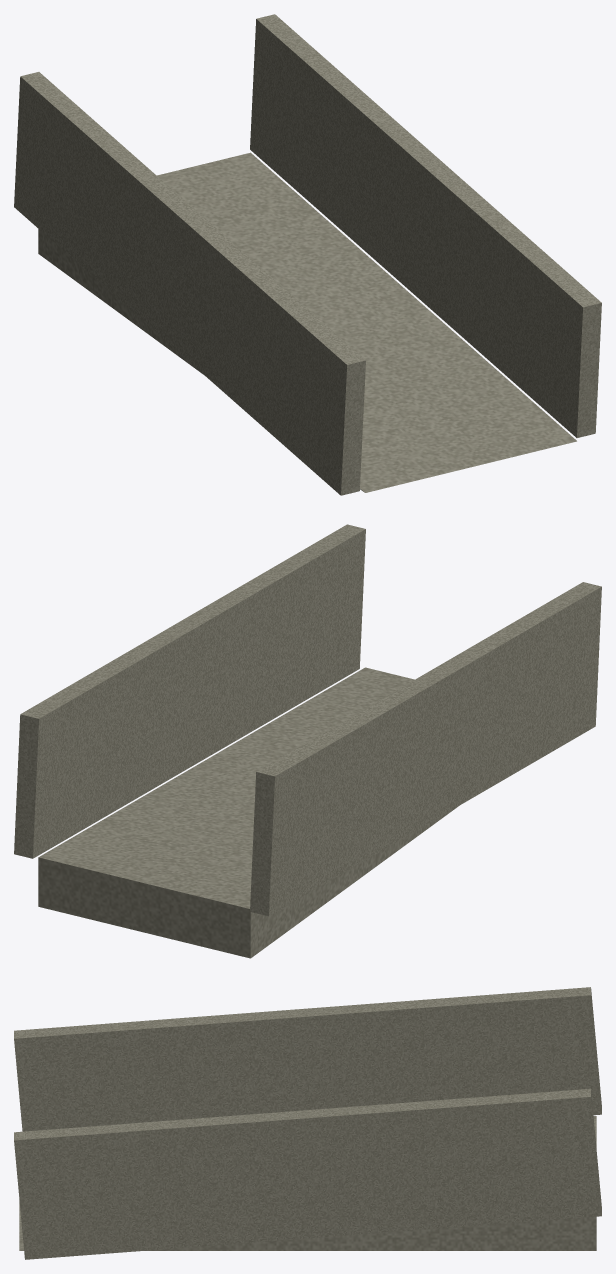
The picture shows the model from 3 angles, top to bottom: view 1: azimuth 30°, elevation 25°; view 2: azimuth 150°, elevation 25°; view 3: azimuth 270°, elevation 25°; orthographic projection. The views are drawn at different scales.
Visible parts, largest first — view 1: COL_guard, COL_guard.001, COL_smooth_navigation_proxy; view 2: COL_guard, COL_guard.001, COL_smooth_navigation_proxy; view 3: COL_guard.001, COL_guard, COL_smooth_navigation_proxy.
Boxes of the visible parts, x1,y1,x2,y2 form: COL_guard: (14,72,365,495); COL_guard.001: (250,14,601,437); COL_smooth_navigation_proxy: (38,152,576,492); COL_guard: (250,582,601,916); COL_guard.001: (14,524,365,858); COL_smooth_navigation_proxy: (38,667,458,958); COL_guard.001: (14,1088,601,1259); COL_guard: (14,987,601,1131); COL_smooth_navigation_proxy: (19,1116,596,1250).
Bounding box in the file's own units: 2.16 × 1.5 × 4.89.
Materials: 1 (1 with a texture image).
